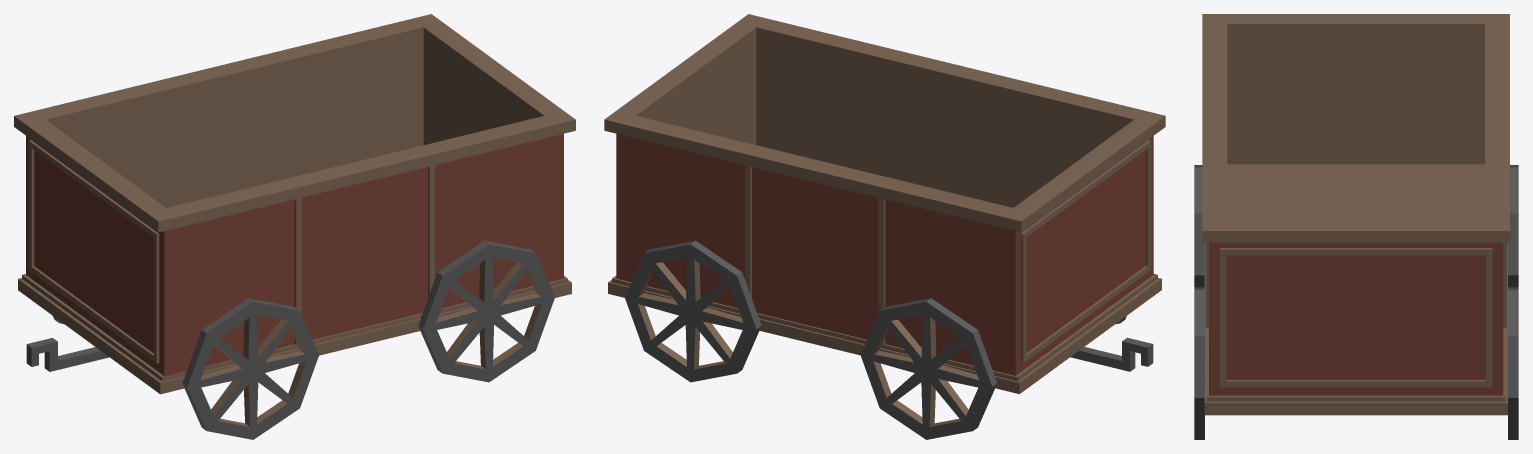
The model's file is transport_01.fbx.
3 views of the same model, side by side, from view 1: azimuth 30°, elevation 25°; view 2: azimuth 150°, elevation 25°; view 3: azimuth 270°, elevation 25° (orthographic). The views are drawn at different scales.
Visible parts, largest first — view 1: transport_01; view 2: transport_01; view 3: transport_01.
Part boxes in pixels (x1,y1,x2,y2): transport_01: (14,14,575,439); transport_01: (604,14,1165,439); transport_01: (1194,14,1518,439).
Bounding box in the file's own units: 3.35 × 1.86 × 1.6.
